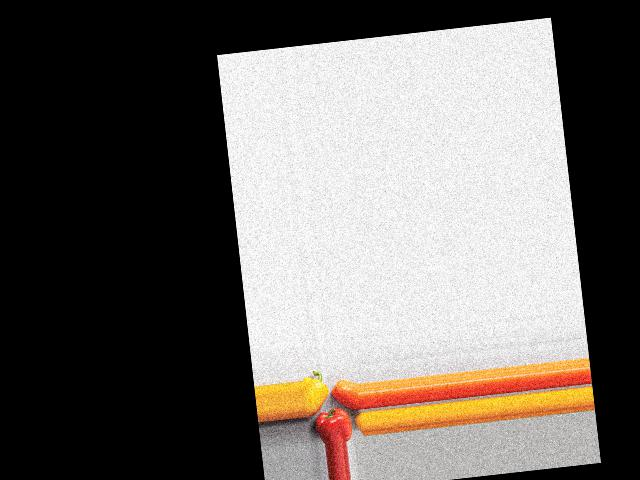bell_pepper: (311, 407, 352, 444)
